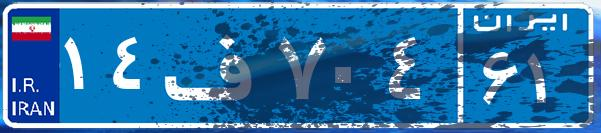0: (330, 28, 385, 110)
1: (57, 26, 110, 107), (525, 38, 570, 115)
4: (385, 28, 445, 110), (110, 28, 158, 105)
6: (475, 38, 525, 113)
7: (273, 28, 330, 110)
ف: (158, 15, 273, 115)
